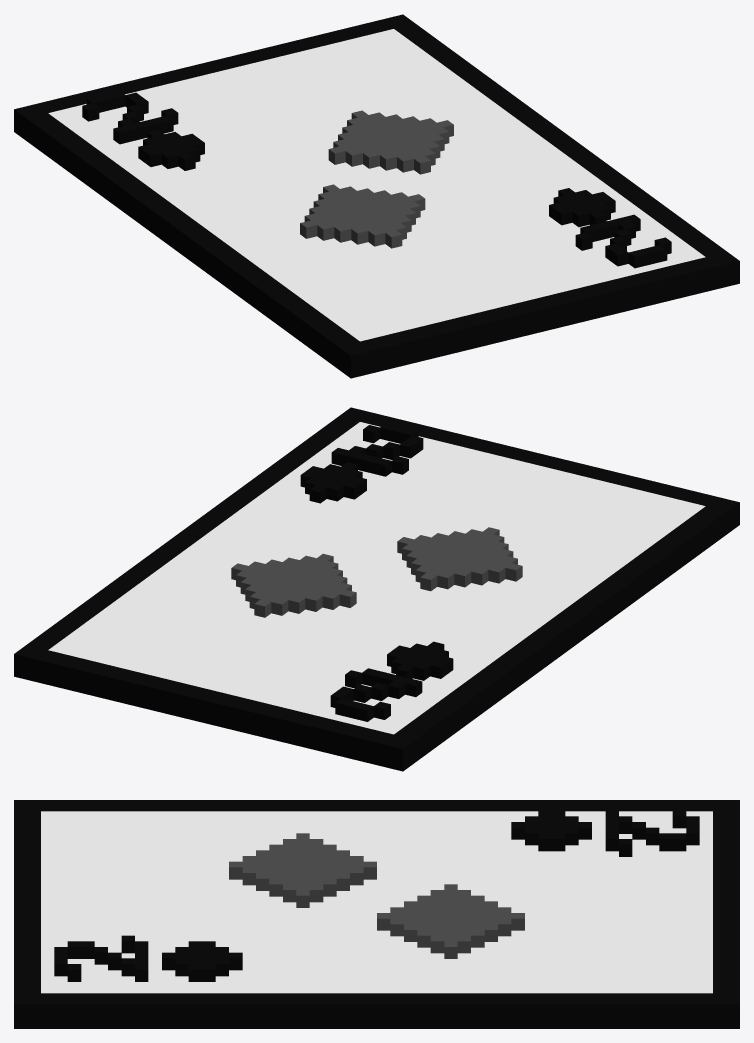
File: Dia2.obj
3 views of the same model, one above another, from view 1: azimuth 30°, elevation 25°; view 2: azimuth 150°, elevation 25°; view 3: azimuth 270°, elevation 25° (orthographic). The views are drawn at different scales.
Size of the model in its own units: 36 by 3 by 54.
1 material, 1 textured.
